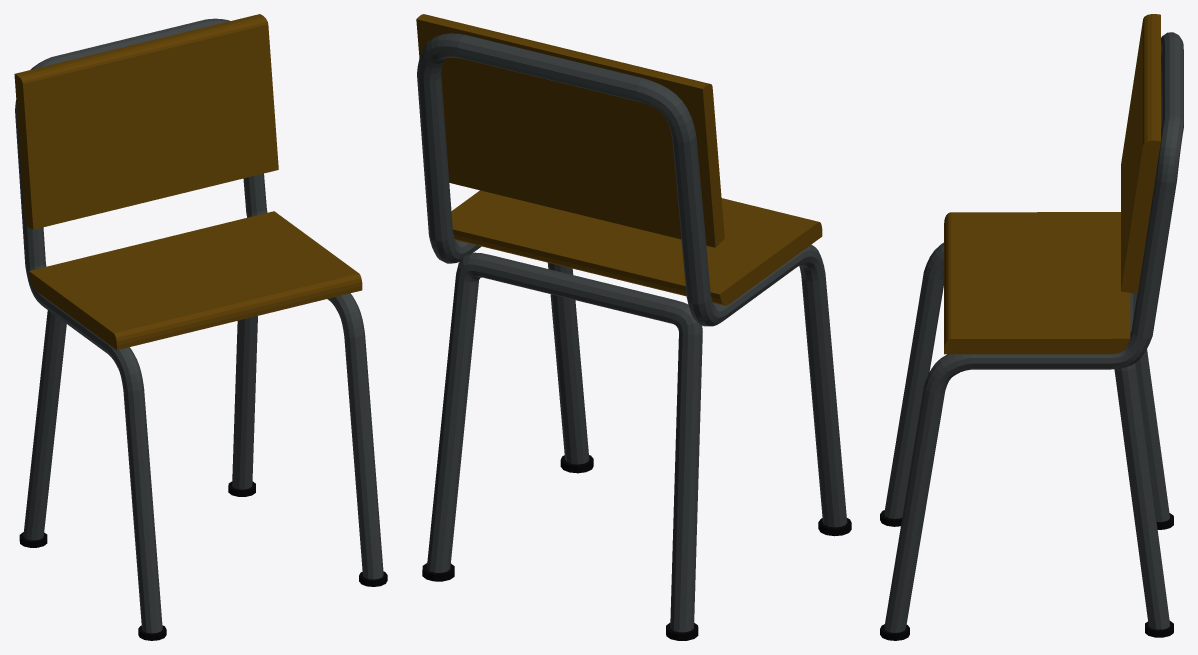
File: schoolDesk_chair.fbx
The picture shows the model from 3 angles, left to right: view 1: azimuth 30°, elevation 25°; view 2: azimuth 150°, elevation 25°; view 3: azimuth 270°, elevation 25°; orthographic projection. The views are drawn at different scales.
Visible parts, largest first — view 1: schoolDesk_chair; view 2: schoolDesk_chair; view 3: schoolDesk_chair.
Part boxes in pixels (left/top/right/bottom): schoolDesk_chair: left=14, top=14, right=387, bottom=640; schoolDesk_chair: left=416, top=14, right=851, bottom=640; schoolDesk_chair: left=880, top=14, right=1183, bottom=640.
Size of the model in its own units: 43.34 by 79.8 by 43.87.
